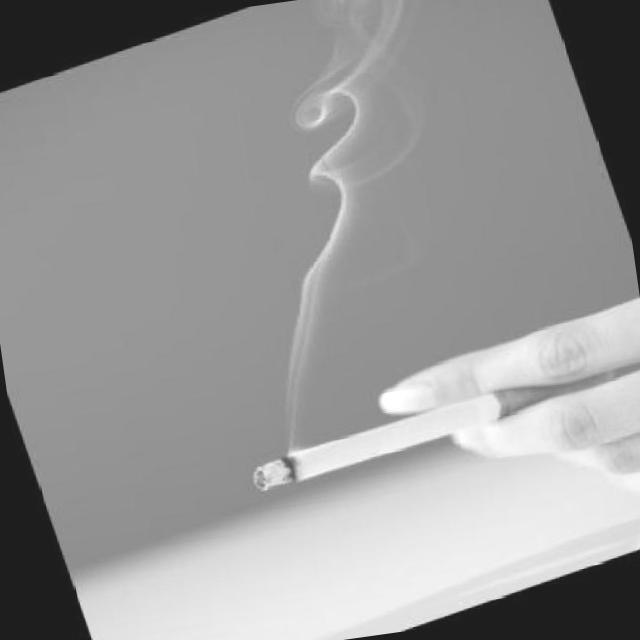cigarette: (237, 340, 634, 504)
